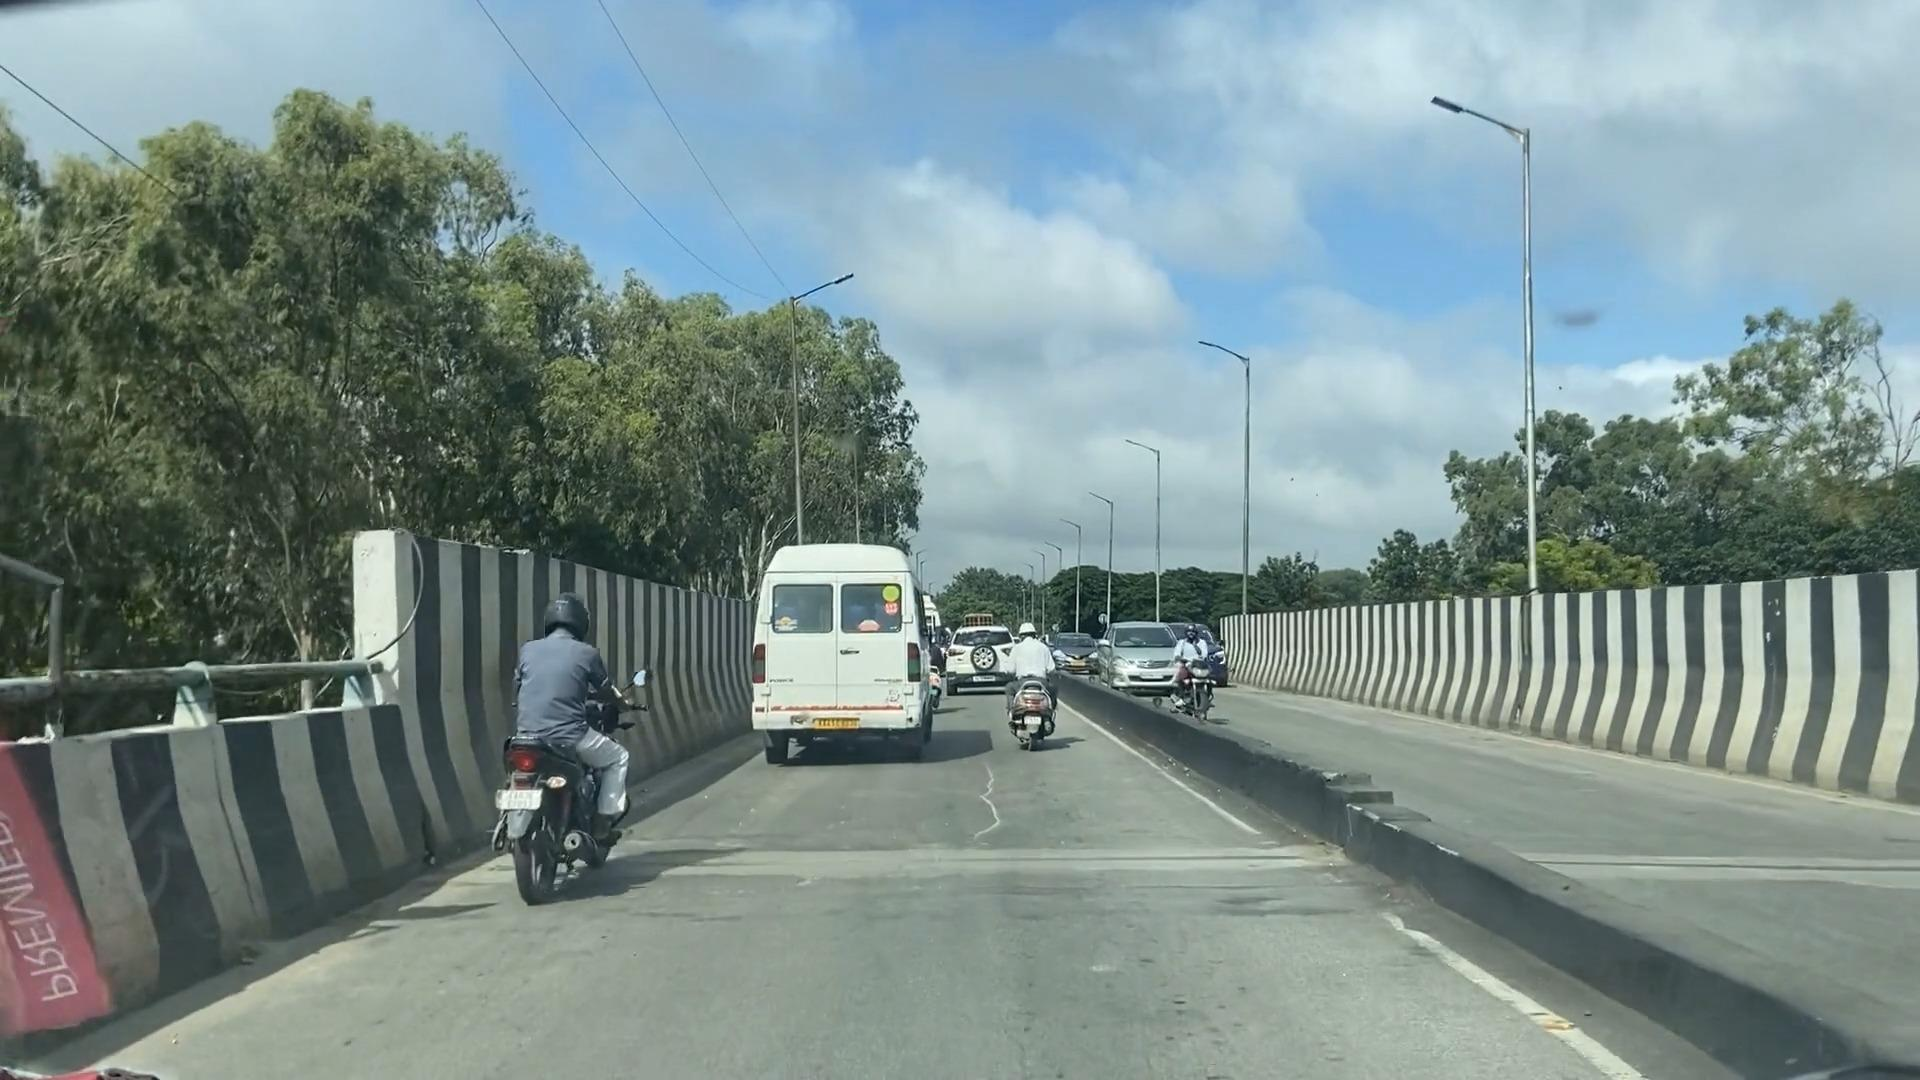HMV: (742, 547, 931, 766)
LMV: (502, 597, 629, 903), (1005, 629, 1051, 757)
RoadDamages: (971, 758, 1004, 841)
SpeedBump: (650, 840, 1296, 868)
